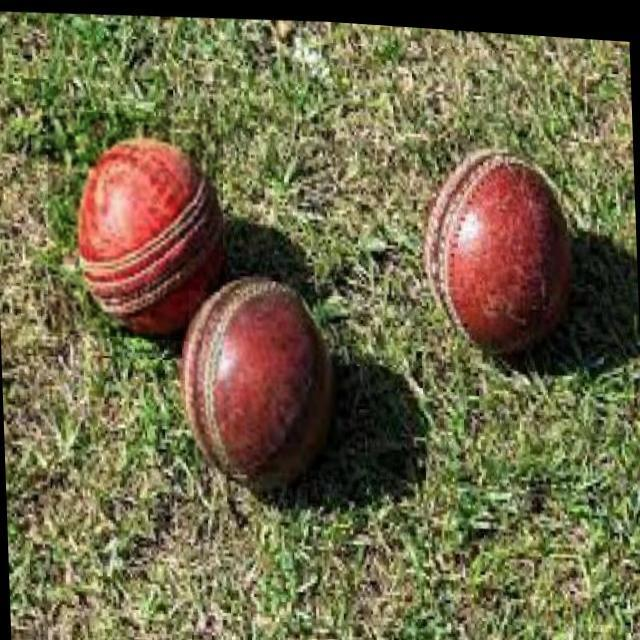Red_Ball: (419, 141, 575, 367), (182, 279, 338, 482), (68, 138, 218, 327)
